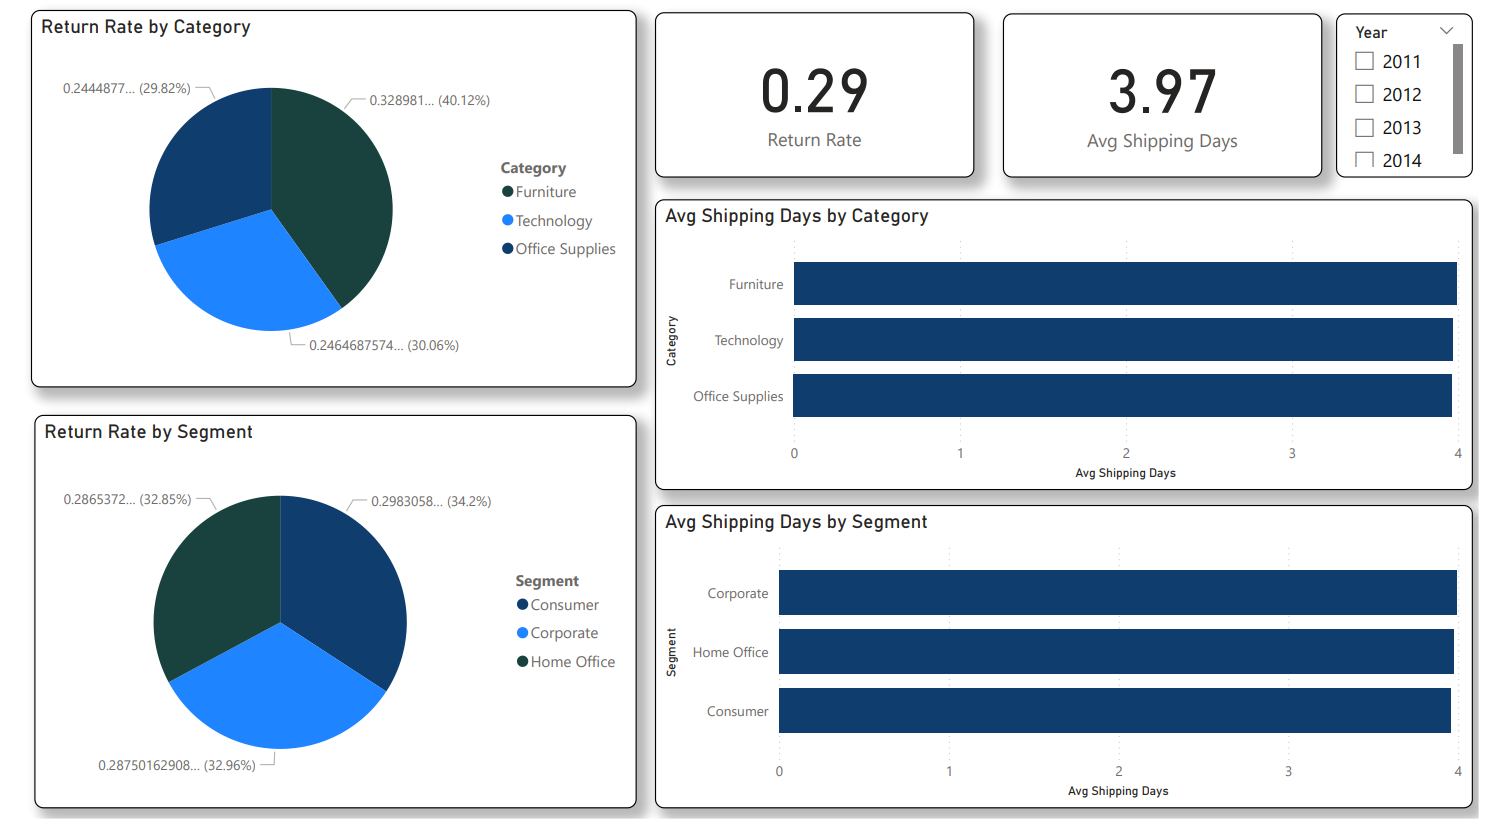

The page's visual inventory and layout, read from the dashboard file:
{"tool":"powerbi","page":{"name":"Return Analysis","canvas":[1280,720],"ordinal":3},"visuals":[{"type":"pageNavigator","box":[8.6,14.7,140.6,294.7],"z":0},{"type":"slicer","fields":{"Values":["DateTable.Year"]},"box":[7.3,333.8,139.4,68.5],"z":1000},{"type":"slicer","fields":{"Values":["Sales_data.Region"]},"box":[7.3,426.8,140,68],"z":2000},{"type":"slicer","fields":{"Values":["Sales_data.Category"]},"box":[7.3,524.6,140.6,68],"z":3000},{"type":"slicer","fields":{"Values":["Sales_data.Segment"]},"box":[7.3,620,140.6,68.5],"z":4000},{"type":"lineStackedColumnComboChart","fields":{"Category":["Sales_data.Market"],"Y":["Sales_data.Total Orders","Sales_data.Returned Orders"],"Y2":["Sales_data.Return Rate"]},"box":[161.4,14.7,517.3,295.9],"z":5000},{"type":"lineStackedColumnComboChart","fields":{"Category":["Sales_data.Sub-Category"],"Y":["Sales_data.Total Orders","Sales_data.Total Customers"],"Y2":["Sales_data.Return Rate"]},"box":[869.4,335.1,402.3,362],"z":5001},{"type":"clusteredBarChart","title":"Top 10 Returned Products","fields":{"Category":["Sales_data.Product Name"],"Y":["Sales_data.Returned Orders"]},"box":[534.4,335.1,324.1,362],"z":5002},{"type":"lineStackedColumnComboChart","fields":{"Category":["DateTable.Date.Variation.Date Hierarchy.Month"],"Y":["Sales_data.Total Orders"],"Y2":["Sales_data.Return Rate"]},"box":[697,14.7,574.7,297.1],"z":5003},{"type":"columnChart","fields":{"Category":["Sales_data.Segment"],"Y":["Sales_data.Return Rate"],"Series":["Sales_data.Category"]},"box":[161.4,333.8,363.2,363.2],"z":5004}]}

Visuals, with their boxes in screenshot pixels (x1, y1, x2, y2), scaled from the page's 1280x720 canvas onto the 1493x822 screenshot:
pageNavigator: left=10, top=17, right=174, bottom=353
slicer - DateTable.Year: left=9, top=381, right=171, bottom=459
slicer - Sales_data.Region: left=9, top=487, right=172, bottom=565
slicer - Sales_data.Category: left=9, top=599, right=173, bottom=677
slicer - Sales_data.Segment: left=9, top=708, right=173, bottom=786
lineStackedColumnComboChart - Sales_data.Market x Sales_data.Total Orders: left=188, top=17, right=792, bottom=355
lineStackedColumnComboChart - Sales_data.Sub-Category x Sales_data.Total Orders: left=1014, top=383, right=1483, bottom=796
"Top 10 Returned Products" clusteredBarChart: left=623, top=383, right=1001, bottom=796
lineStackedColumnComboChart - DateTable.Date.Variation.Date Hierarchy.Month x Sales_data.Total Orders: left=813, top=17, right=1483, bottom=356
columnChart - Sales_data.Segment x Sales_data.Return Rate: left=188, top=381, right=612, bottom=796
